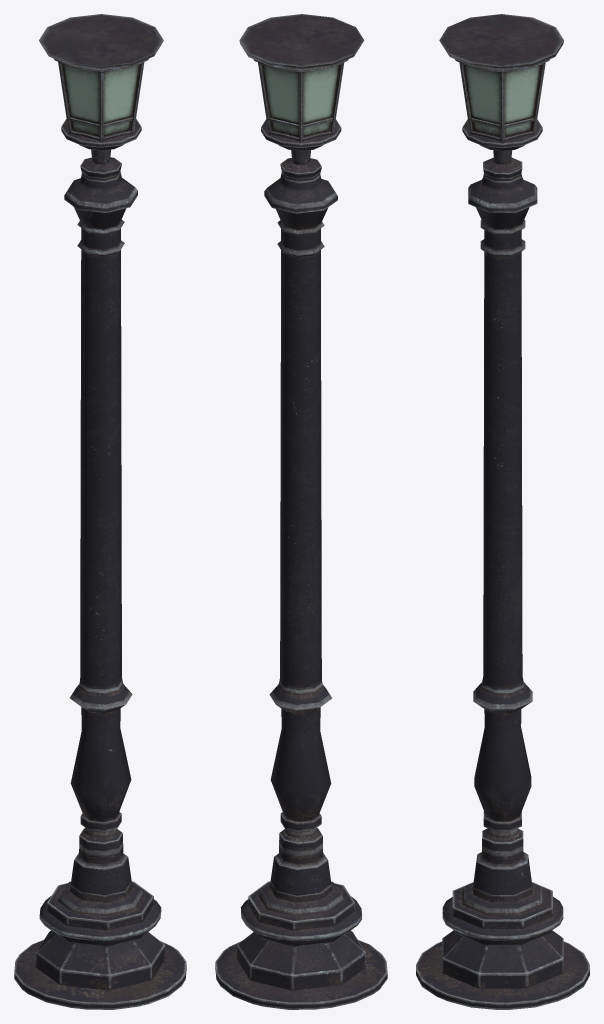
The model's file is upd_lamp.fbx.
The picture shows the model from 3 angles, left to right: view 1: azimuth 30°, elevation 25°; view 2: azimuth 150°, elevation 25°; view 3: azimuth 270°, elevation 25°; orthographic projection.
Parts seen in each view (by area): view 1: lamp_111; view 2: lamp_111; view 3: lamp_111.
Boxes of the visible parts, <box> form: lamp_111: <box>14,14,186,1009</box>; lamp_111: <box>215,14,387,1009</box>; lamp_111: <box>416,14,589,1009</box>.
Bounding box in the file's own units: 93.32 × 553 × 93.32.
